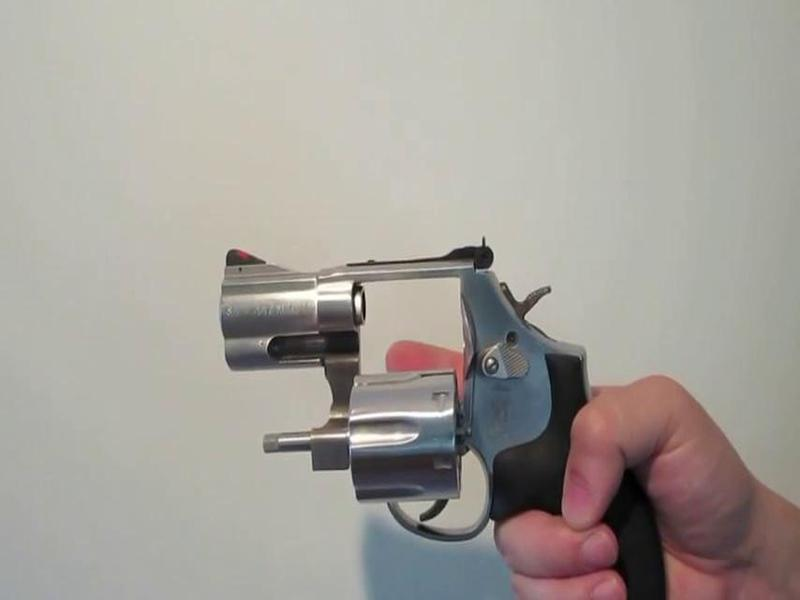Revolver: (223, 220, 720, 594)
